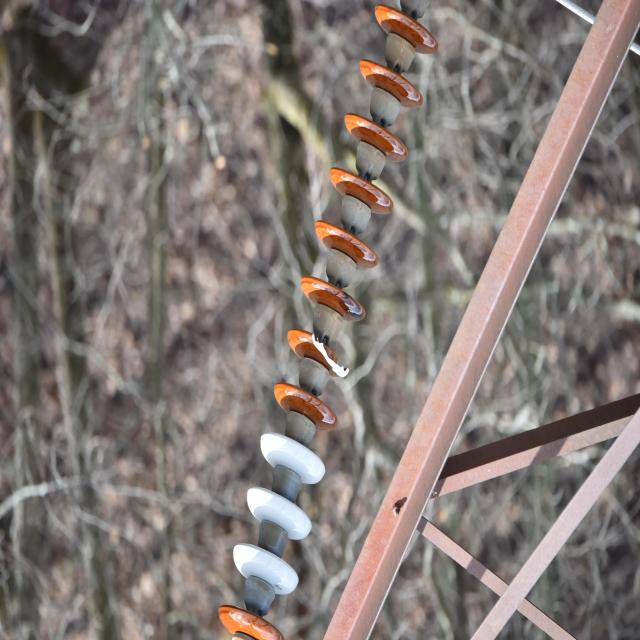broken: (309, 328, 351, 381)
insulator: (218, 7, 437, 638)
